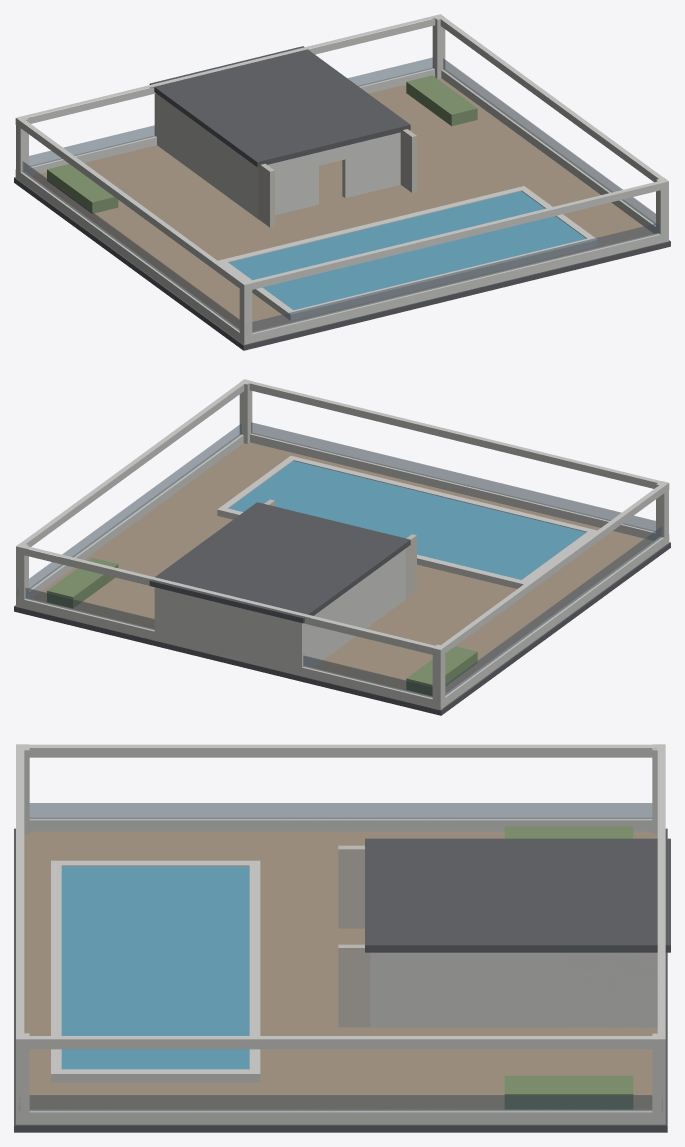
Rendered from condo-roof-b.zfix-v2.lod0.glb.
The picture shows the model from 3 angles, top to bottom: view 1: azimuth 30°, elevation 25°; view 2: azimuth 150°, elevation 25°; view 3: azimuth 270°, elevation 25°; orthographic projection. The views are drawn at different scales.
Parts seen in each view (by area): view 1: condo-roof-b; view 2: condo-roof-b; view 3: condo-roof-b.
Part boxes in pixels (x1=…): condo-roof-b: x1=14, y1=14, x2=670, y2=350; condo-roof-b: x1=14, y1=379, x2=670, y2=715; condo-roof-b: x1=14, y1=744, x2=670, y2=1132.
Size of the model in its own units: 26.16 by 3.83 by 24.48.
